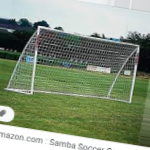goals: (5, 24, 140, 103)
